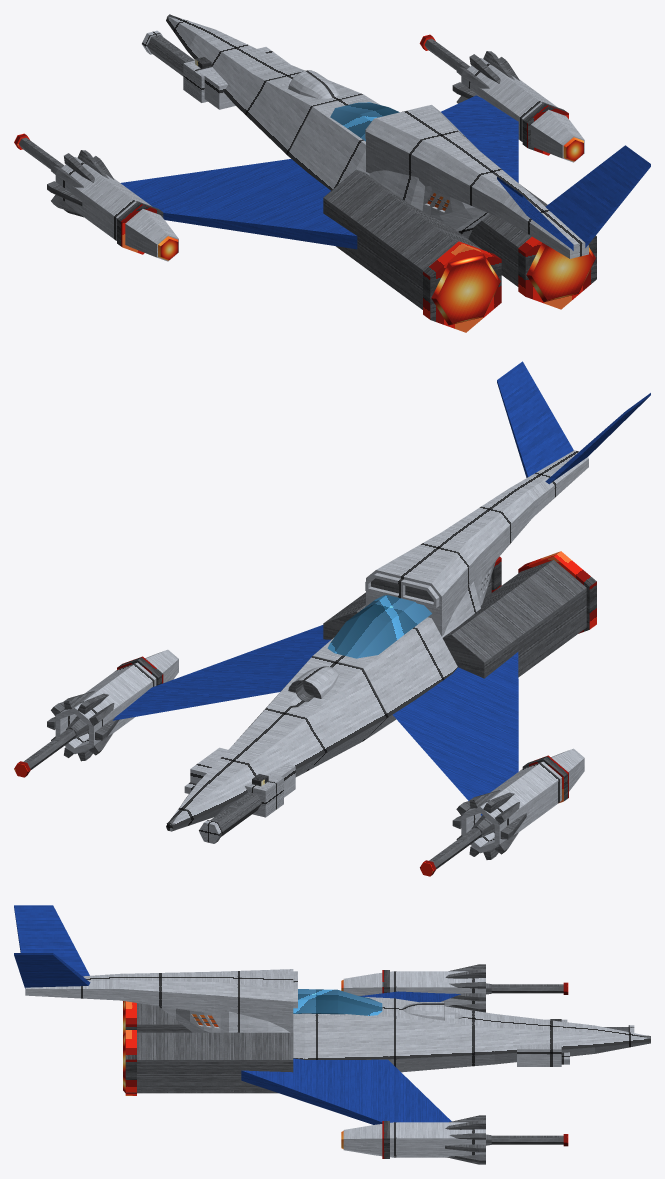
The model's file is kite.glb.
3 views of the same model, one above another, from view 1: azimuth 30°, elevation 25°; view 2: azimuth 150°, elevation 25°; view 3: azimuth 270°, elevation 25° (orthographic). The views are drawn at different scales.
Parts seen in each view (by area): view 1: fuselage, wing, tail_boom, booster, stabiliser.001, driver, driver.001, wing.001, exhaust, tail_root, exhaust.001, booster_ring (+12 smaller); view 2: fuselage, wing, tail_boom, booster, wing.001, stabiliser.001, canopy, driver, driver.001, driver_inlet.001, driver_inlet, booster_ring (+7 smaller); view 3: fuselage, booster.001, tail_boom, wing.001, driver.001, stabiliser, driver, stabiliser.001, canopy, tail_root, booster, gun_fairing.001 (+7 smaller).
Boxes of the visible parts, bbox=[...] form: fuselage: bbox=[166, 16, 379, 190]; wing: bbox=[120, 159, 357, 249]; tail_boom: bbox=[366, 105, 588, 258]; booster: bbox=[323, 169, 482, 309]; stabiliser.001: bbox=[545, 145, 650, 247]; driver: bbox=[72, 169, 178, 261]; driver.001: bbox=[477, 70, 584, 162]; wing.001: bbox=[441, 95, 518, 182]; exhaust: bbox=[431, 254, 500, 325]; tail_root: bbox=[369, 170, 489, 238]; exhaust.001: bbox=[526, 242, 595, 302]; booster_ring: bbox=[423, 241, 501, 332]; fuselage: bbox=[166, 617, 457, 831]; wing: bbox=[392, 652, 518, 815]; tail_boom: bbox=[366, 450, 588, 636]; booster: bbox=[442, 560, 586, 678]; wing.001: bbox=[112, 625, 330, 720]; stabiliser.001: bbox=[497, 361, 573, 477]; canopy: bbox=[327, 595, 431, 658]; driver: bbox=[490, 748, 584, 833]; driver.001: bbox=[85, 649, 178, 734]; driver_inlet.001: bbox=[55, 694, 110, 753]; driver_inlet: bbox=[461, 795, 515, 853]; booster_ring: bbox=[518, 551, 596, 633]; fuselage: bbox=[293, 997, 650, 1072]; booster.001: bbox=[137, 1032, 293, 1093]; tail_boom: bbox=[25, 969, 293, 1032]; wing.001: bbox=[241, 1058, 451, 1124]; driver.001: bbox=[343, 1122, 460, 1157]; stabiliser: bbox=[14, 905, 89, 976]; driver: bbox=[343, 971, 460, 1006]; stabiliser.001: bbox=[14, 953, 90, 988]; canopy: bbox=[293, 989, 382, 1015]; tail_root: bbox=[158, 1006, 289, 1032]; booster: bbox=[137, 1003, 191, 1032]; gun_fairing.001: bbox=[517, 1042, 561, 1066].
Bounding box in the file's own units: 72.8 × 31.04 × 114.
10 materials, 10 textured.
